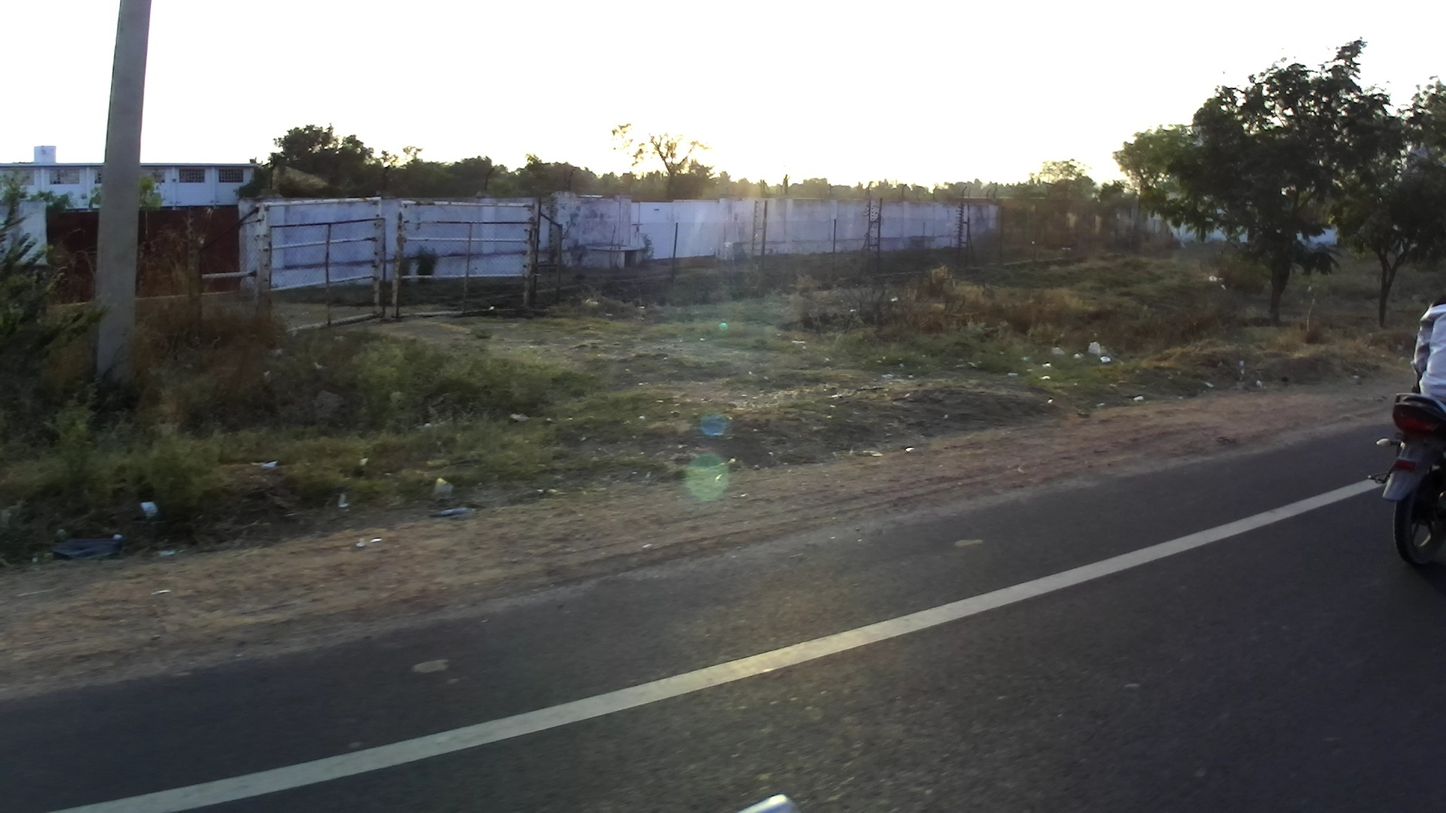motorcycle: (1351, 385, 1444, 577)
rider: (1404, 289, 1445, 406)
